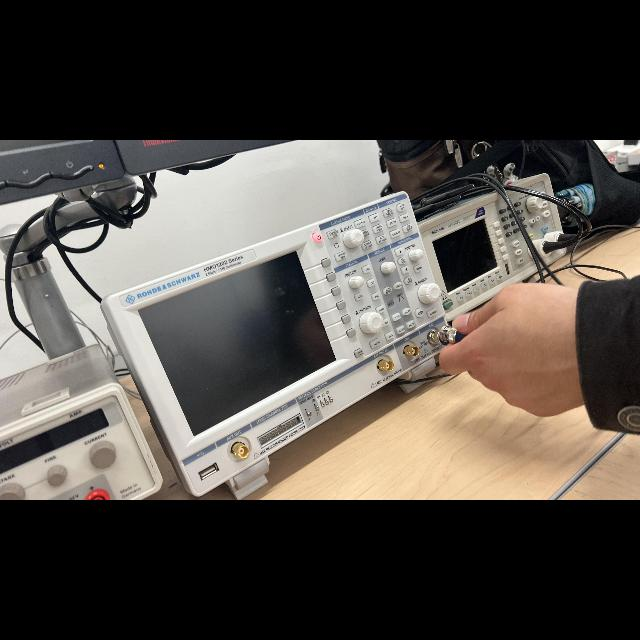Digital-Oscilloscope: (102, 193, 447, 499)
